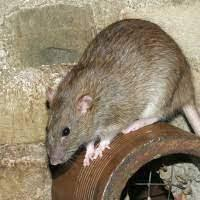rat: (46, 20, 200, 166)
